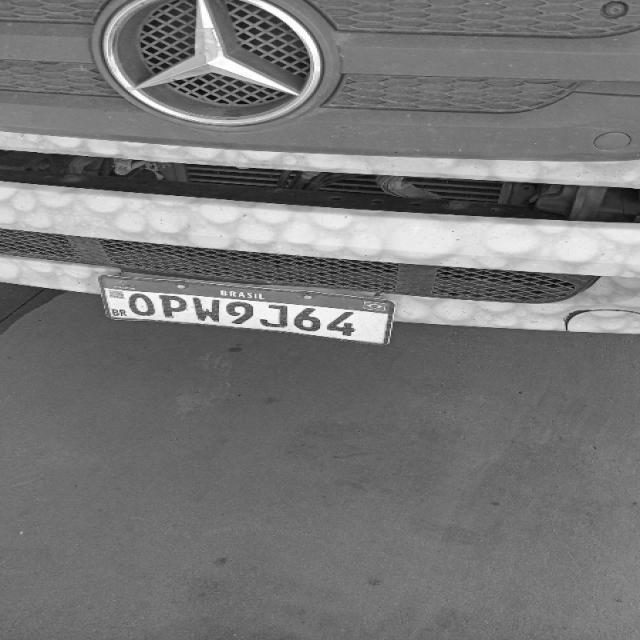placa_mercosul: (100, 273, 393, 344)
